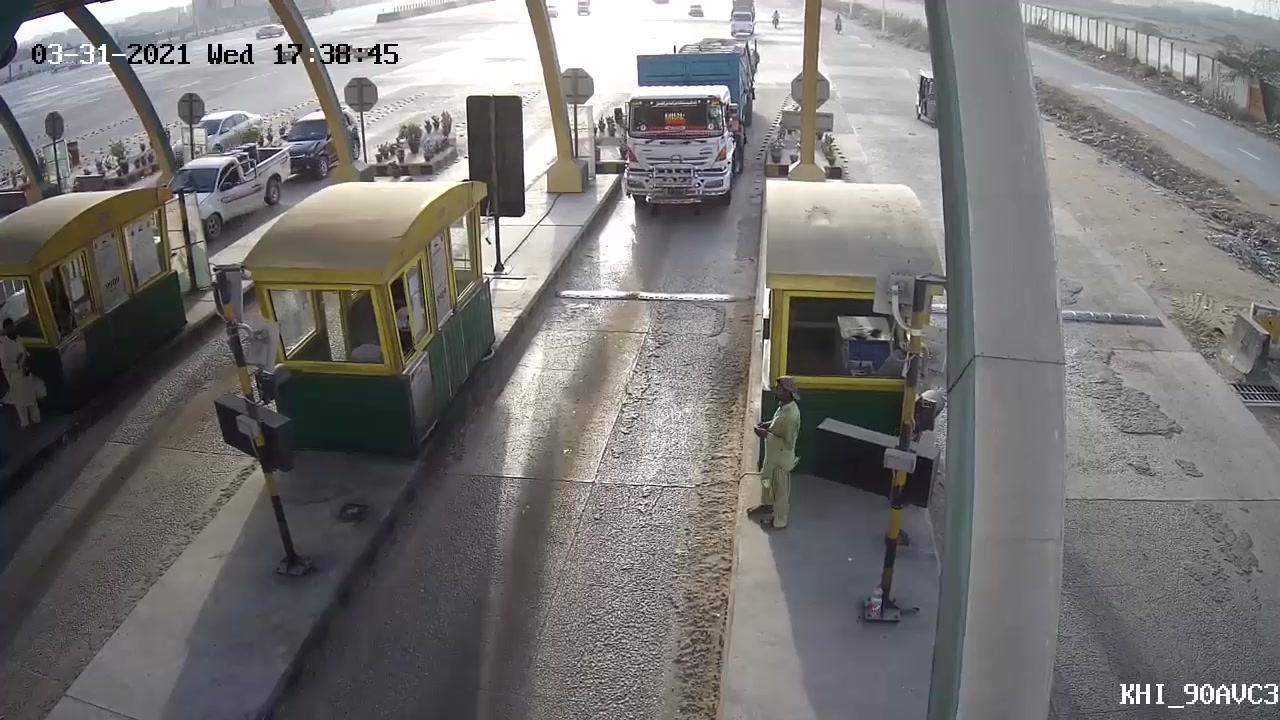F6: (613, 25, 762, 234)
